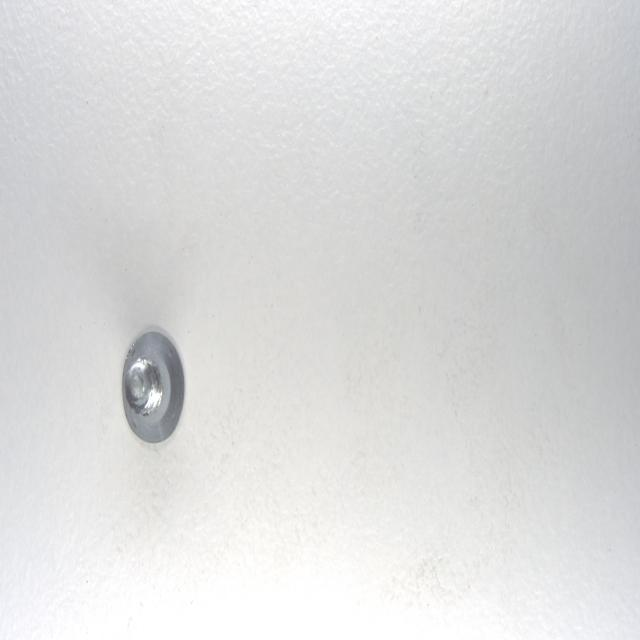Screw: (122, 330, 184, 443)
